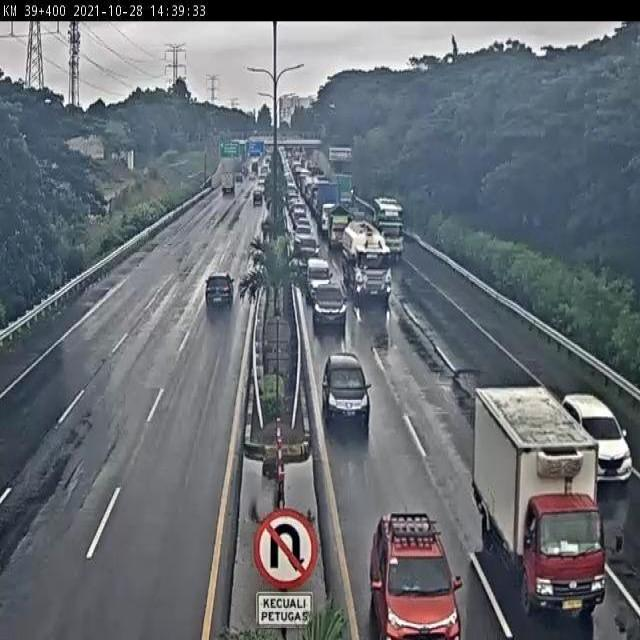big bus: (368, 194, 409, 254)
big truck: (473, 384, 610, 629), (345, 223, 392, 305)
car: (366, 504, 467, 640), (565, 383, 639, 480), (321, 352, 374, 427), (311, 280, 347, 328), (202, 272, 240, 309), (302, 258, 335, 286), (296, 232, 325, 257)
